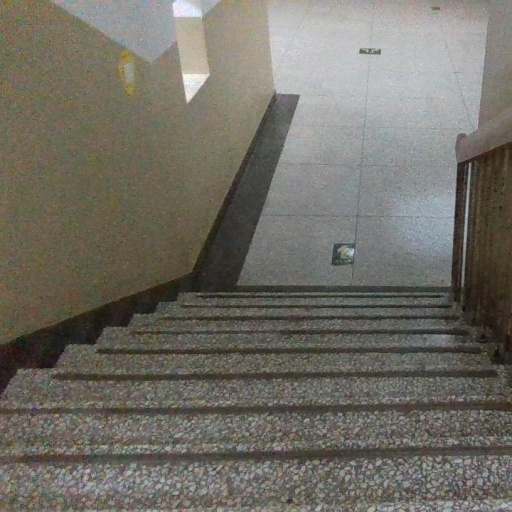Stairs: (0, 288, 512, 512)
